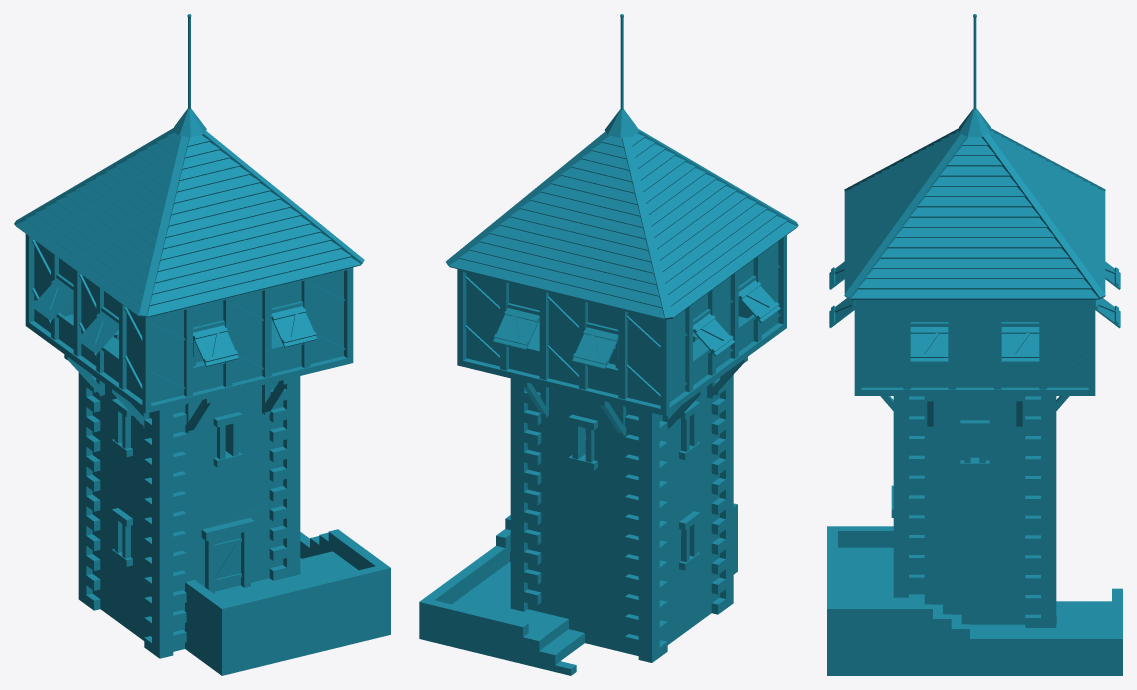
Rendered from watchtower_square.obj.
3 renders of one model, left to right at view 1: azimuth 30°, elevation 25°; view 2: azimuth 150°, elevation 25°; view 3: azimuth 270°, elevation 25°, orthographic.
Parts seen in each view (by area): view 1: Tower, Shutter, Door; view 2: Tower, Shutter; view 3: Tower, Shutter.
Part boxes in pixels (x1,y1,x2,y2): Tower: (14,14,390,675); Shutter: (32,278,317,366); Door: (215,533,241,591); Tower: (419,14,798,675); Shutter: (493,280,780,368); Tower: (827,14,1122,675); Shutter: (829,261,1120,362).
Size of the model in its own units: 79.36 by 179 by 80.
